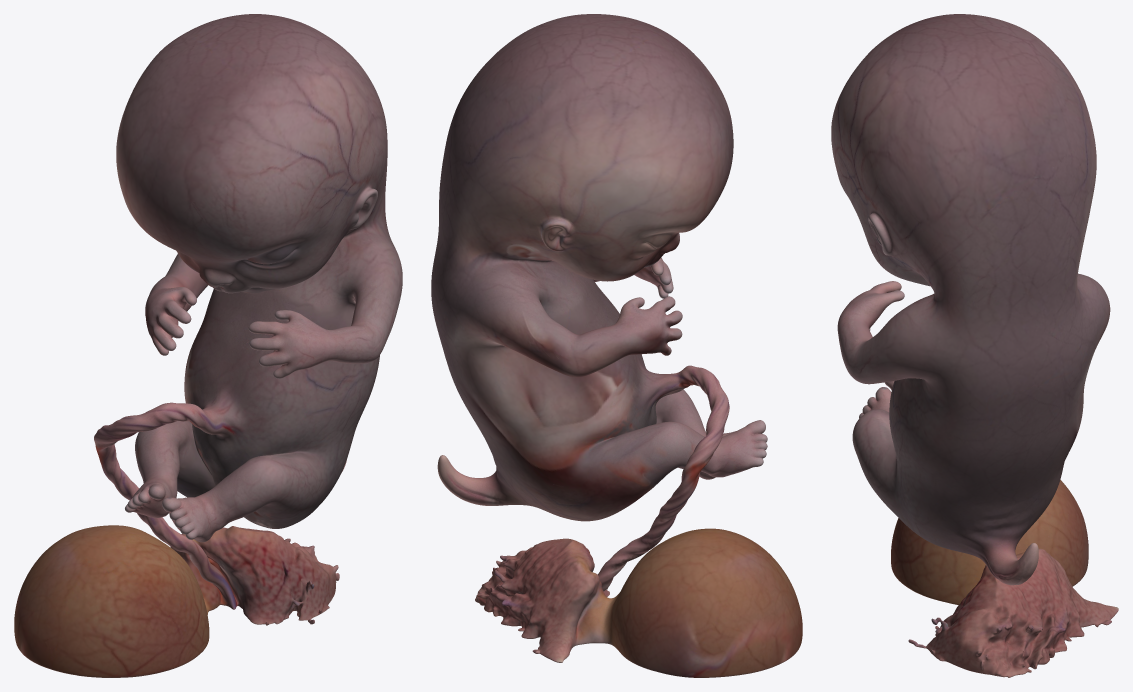
Rendered from semaine-09.glb.
3 views of the same model, side by side, from view 1: azimuth 30°, elevation 25°; view 2: azimuth 150°, elevation 25°; view 3: azimuth 270°, elevation 25° (orthographic). The views are drawn at different scales.
Size of the model in its own units: 1.2 by 1.91 by 0.8285.
Materials: 1 (1 with a texture image).
